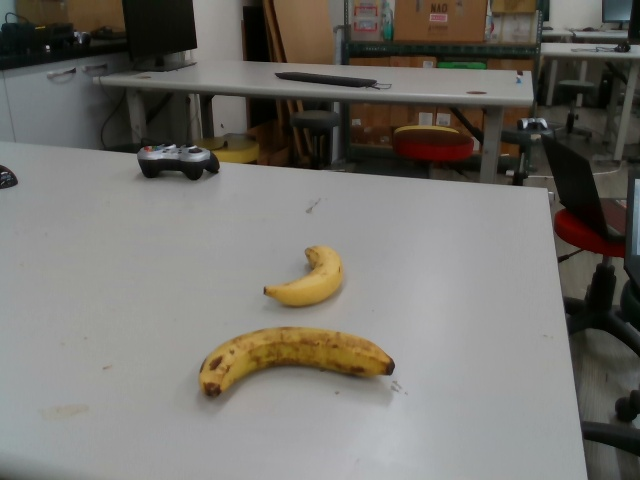banana: (195, 325, 395, 399), (261, 243, 350, 307)
